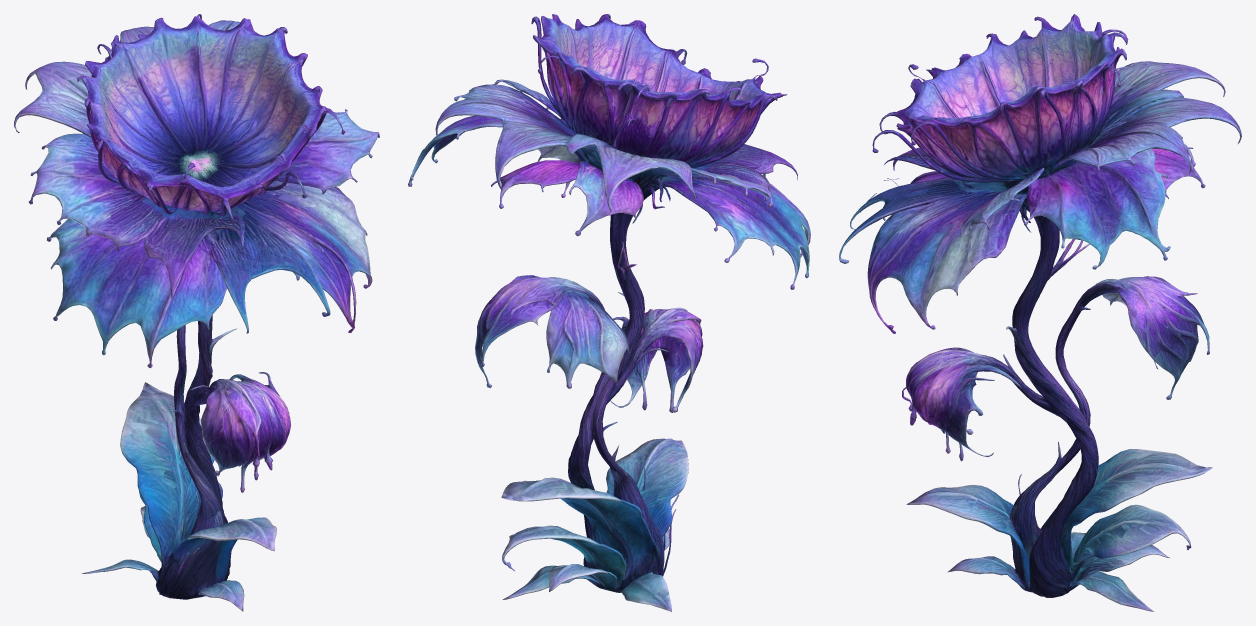
The model's file is Nebula_Bloom.glb.
3 renders of one model, left to right at view 1: azimuth 30°, elevation 25°; view 2: azimuth 150°, elevation 25°; view 3: azimuth 270°, elevation 25°, orthographic.
Parts seen in each view (by area): view 1: Nebula_Bloom; view 2: Nebula_Bloom; view 3: Nebula_Bloom.
Part boxes in pixels (box(x1,y1,x2,y2)): Nebula_Bloom: box(14, 14, 379, 611); Nebula_Bloom: box(408, 14, 810, 611); Nebula_Bloom: box(839, 14, 1241, 611).
Bounding box in the file's own units: 1.18 × 1.9 × 1.29.
1 material, 1 textured.
